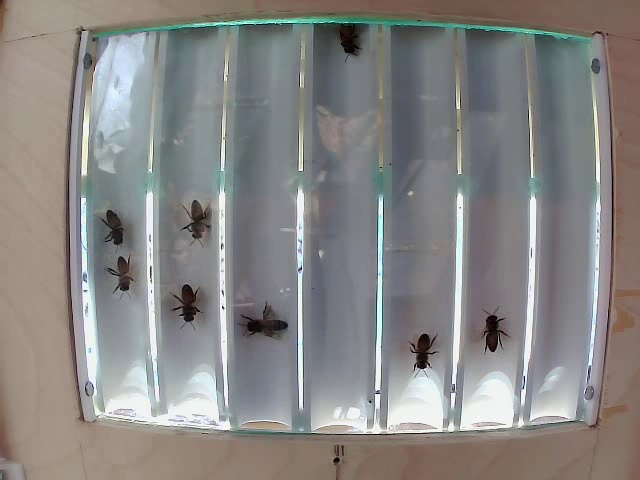bee: (331, 10, 376, 69), (244, 303, 295, 353), (396, 321, 443, 371), (90, 194, 135, 245), (93, 248, 141, 293), (173, 275, 212, 330), (173, 183, 208, 241), (478, 299, 502, 363)
